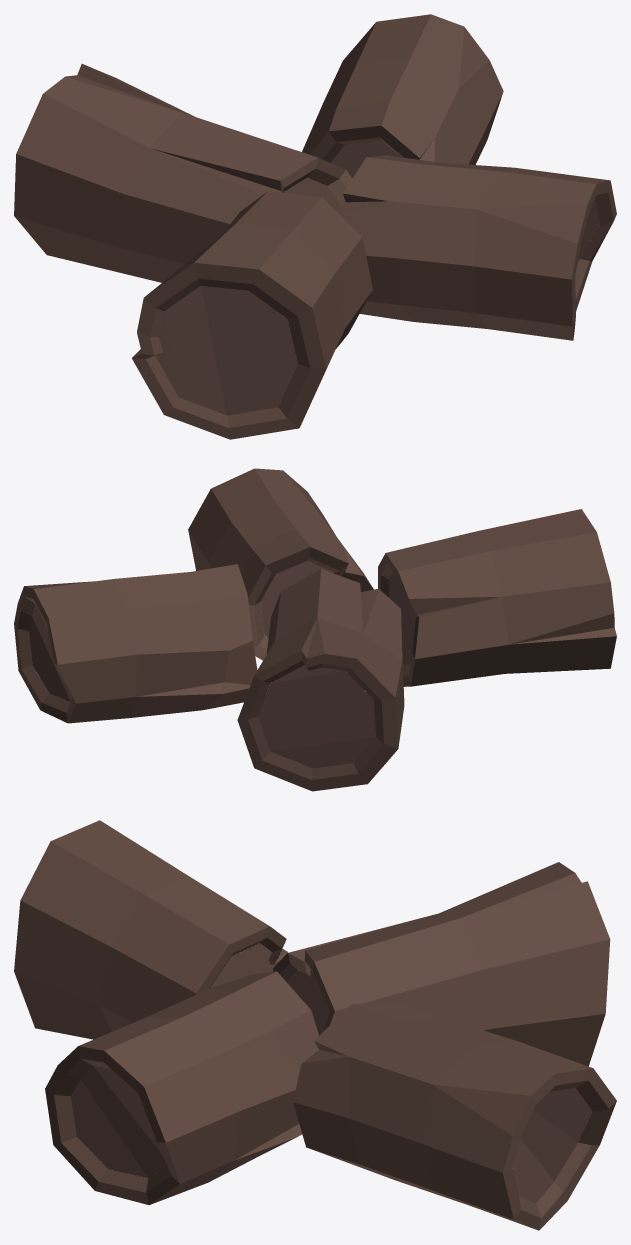
The model's file is bonfire.glb.
3 renders of one model, top to bottom at view 1: azimuth 30°, elevation 25°; view 2: azimuth 150°, elevation 25°; view 3: azimuth 270°, elevation 25°, orthographic. The views are drawn at different scales.
Parts seen in each view (by area): view 1: Bonfire_Cylinder.002; view 2: Bonfire_Cylinder.002; view 3: Bonfire_Cylinder.002.
Part boxes in pixels (left/top/right/bottom): Bonfire_Cylinder.002: left=14, top=14, right=616, bottom=439; Bonfire_Cylinder.002: left=14, top=468, right=616, bottom=791; Bonfire_Cylinder.002: left=14, top=820, right=616, bottom=1230.
Size of the model in its own units: 2.18 by 0.6757 by 1.98.
